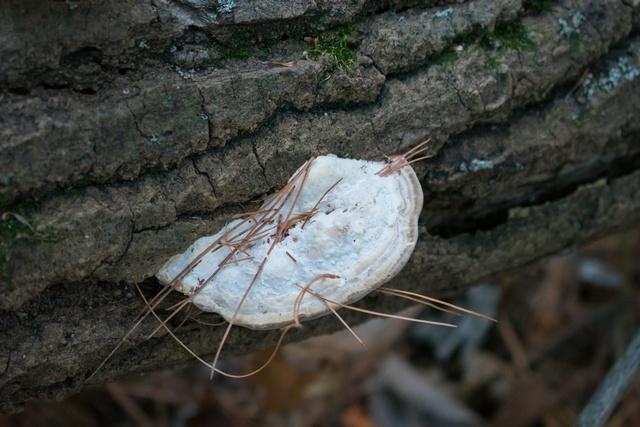Non-edible Mushroom: (154, 148, 425, 332)
